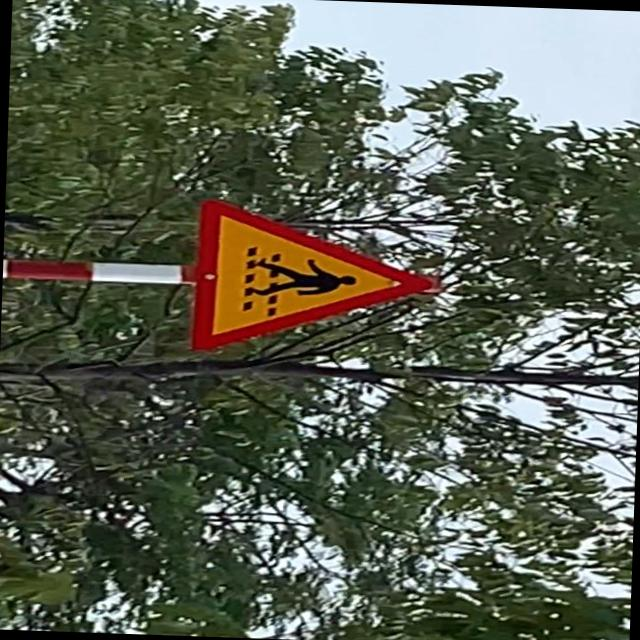W-224: (192, 192, 440, 360)
